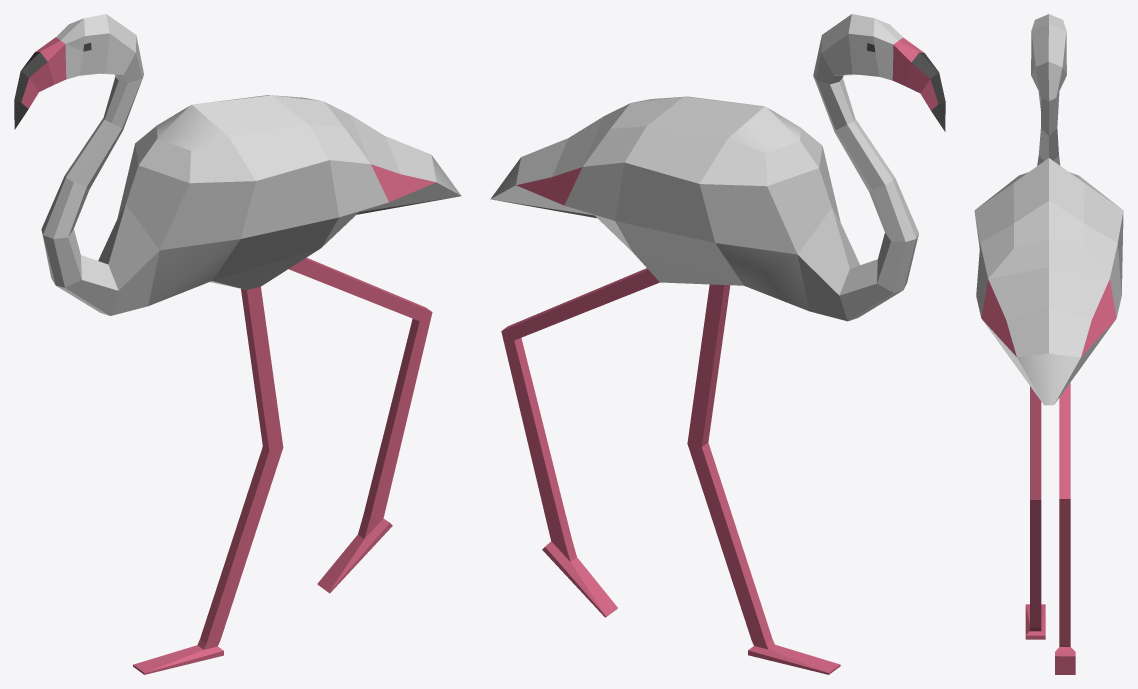
File: flamingo.glb
3 views of the same model, side by side, from view 1: azimuth 30°, elevation 25°; view 2: azimuth 150°, elevation 25°; view 3: azimuth 270°, elevation 25° (orthographic). The views are drawn at different scales.
Parts seen in each view (by area): view 1: Box001; view 2: Box001; view 3: Box001.
Boxes of the visible parts, x1,y1,x2,y2 form: Box001: (14,14,461,674); Box001: (490,14,945,674); Box001: (974,14,1123,674).
Bounding box in the file's own units: 171 × 241 × 56.94.
